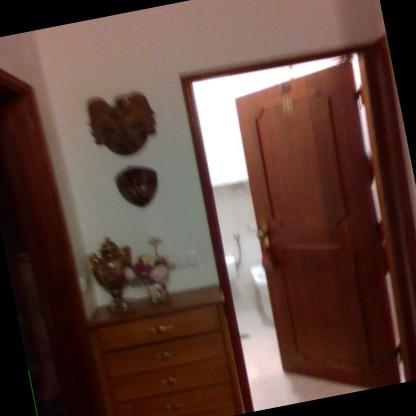semi: (164, 25, 415, 415)
